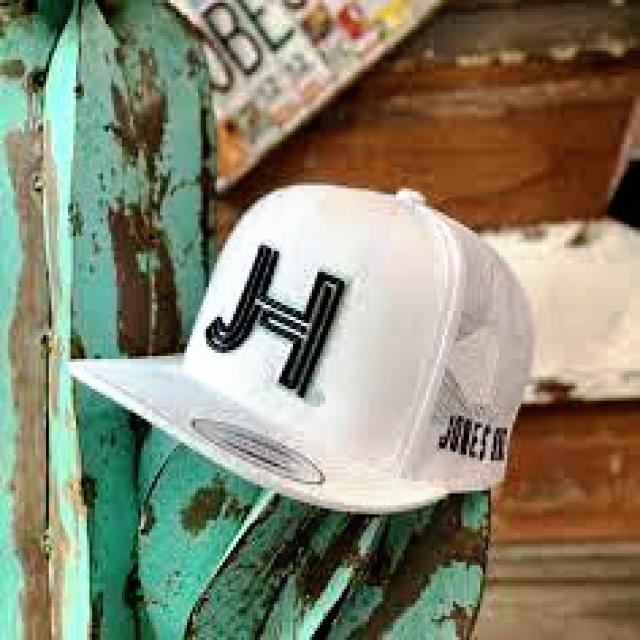TOPI: (65, 173, 537, 518)
